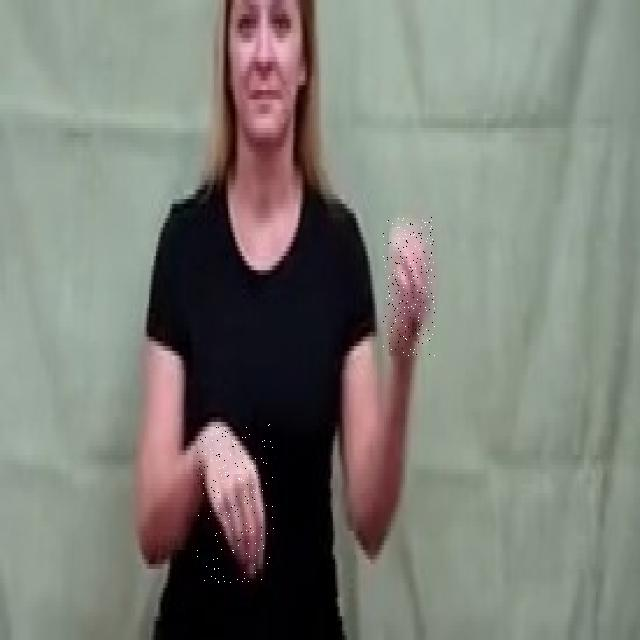ingredients: (197, 424, 274, 584), (384, 217, 436, 356)
